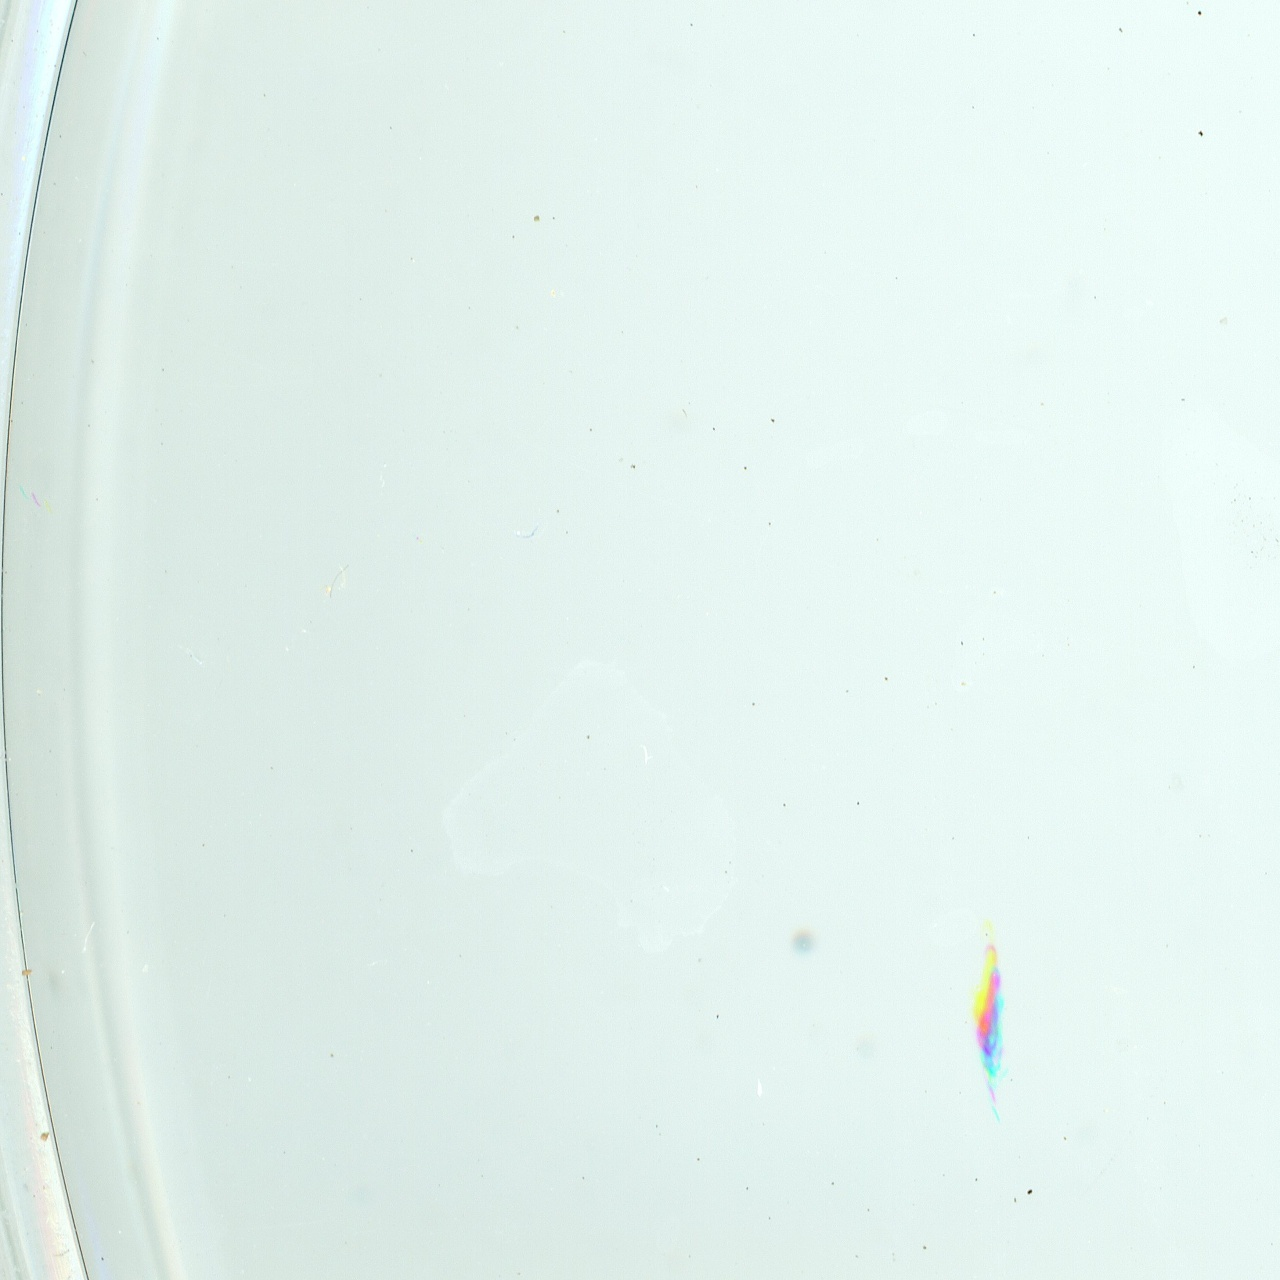arthropod: (962, 924, 1021, 1119)
